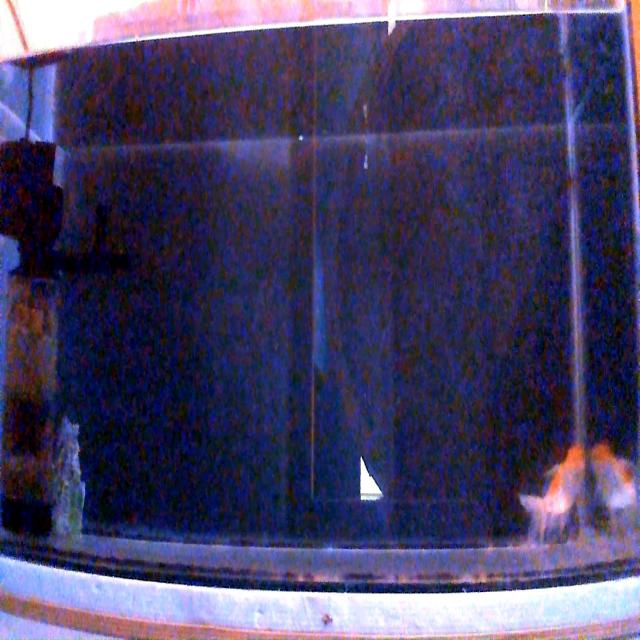fish: (522, 445, 585, 532), (587, 443, 636, 511)
